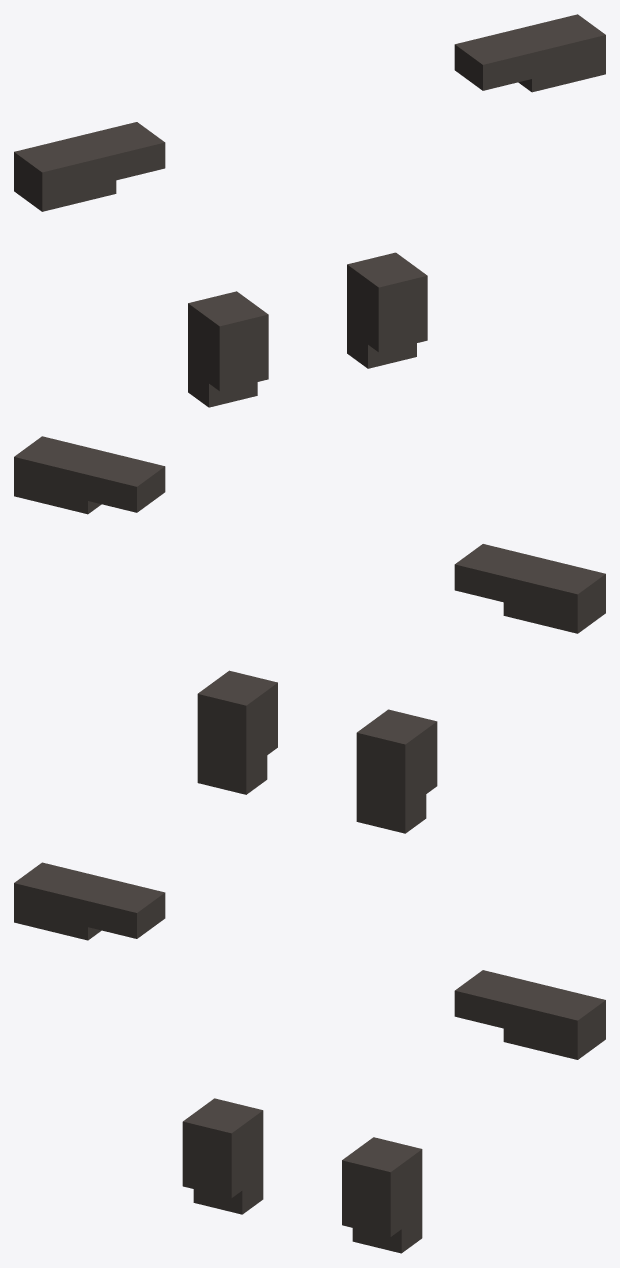
Rendered from Meta_idle.glb.
3 views of the same model, one above another, from view 1: azimuth 30°, elevation 25°; view 2: azimuth 150°, elevation 25°; view 3: azimuth 330°, elevation 25° (orthographic).
Visible parts, largest first — view 1: metaboy_default_detail_rounded.002; view 2: metaboy_default_detail_rounded.002; view 3: metaboy_default_detail_rounded.002.
Boxes of the visible parts, bbox=[...] form: metaboy_default_detail_rounded.002: bbox=[14, 14, 605, 407]; metaboy_default_detail_rounded.002: bbox=[14, 436, 605, 833]; metaboy_default_detail_rounded.002: bbox=[14, 862, 605, 1253].
Size of the model in its own units: 4.61 by 2.2 by 0.4604.
Materials: 1 (1 with a texture image).
